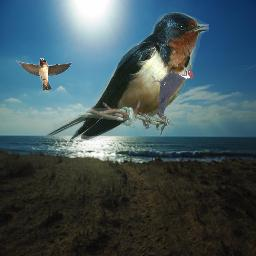Swallow: (46, 12, 209, 141), (15, 58, 74, 91)
Woodpecker: (150, 65, 194, 116)
